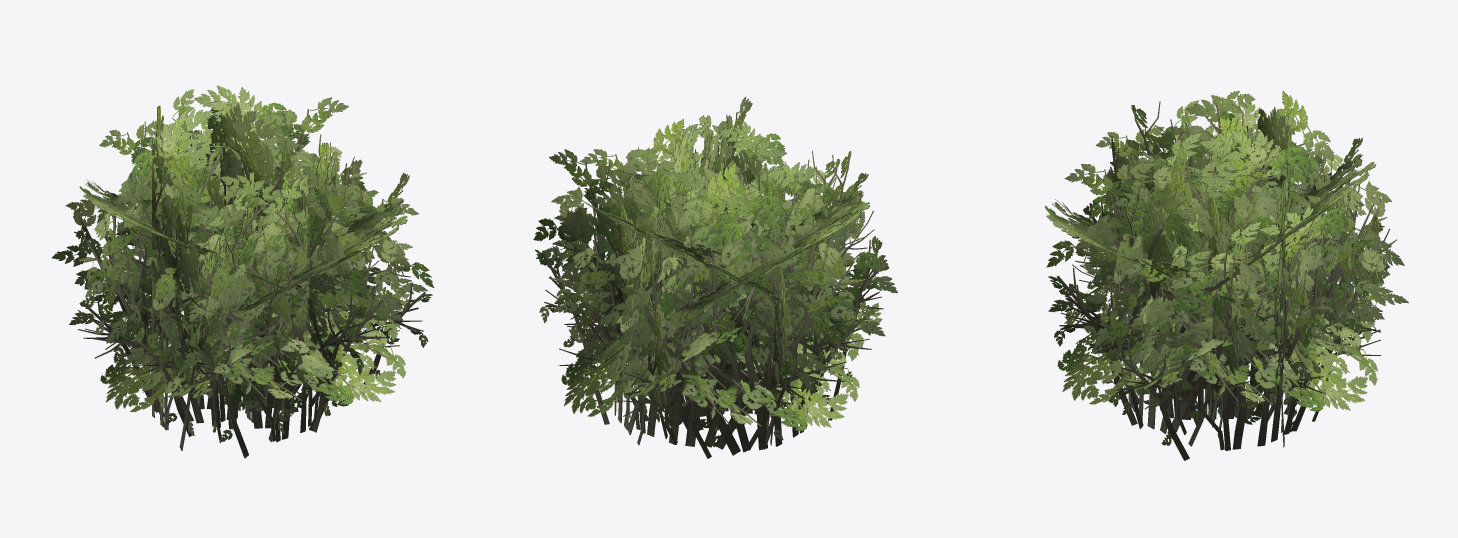
The model's file is bush6.fbx.
The picture shows the model from 3 angles, left to right: view 1: azimuth 30°, elevation 25°; view 2: azimuth 150°, elevation 25°; view 3: azimuth 270°, elevation 25°; orthographic projection.
Parts seen in each view (by area): view 1: Bush-04; view 2: Bush-04; view 3: Bush-04.
Part boxes in pixels (x1=…): Bush-04: x1=51, y1=85, x2=434, y2=458; Bush-04: x1=533, y1=96, x2=897, y2=458; Bush-04: x1=1045, y1=90, x2=1408, y2=460.
Bounding box in the file's own units: 117 × 102 × 122.
